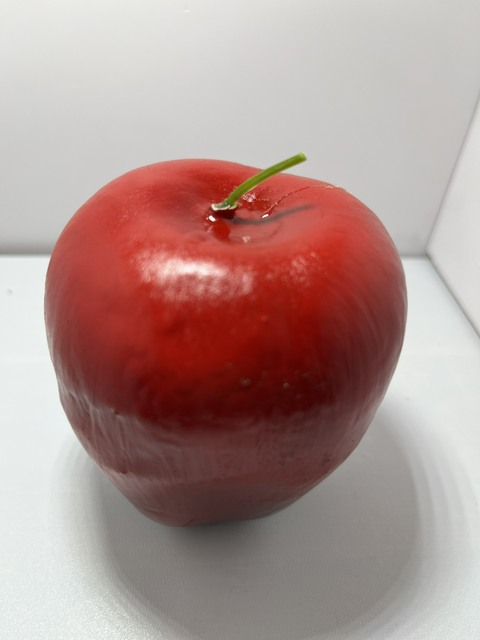Tao: (37, 151, 414, 539)
